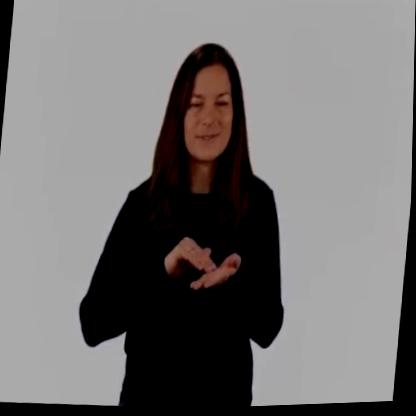ExcuseMe: (156, 222, 257, 314)
